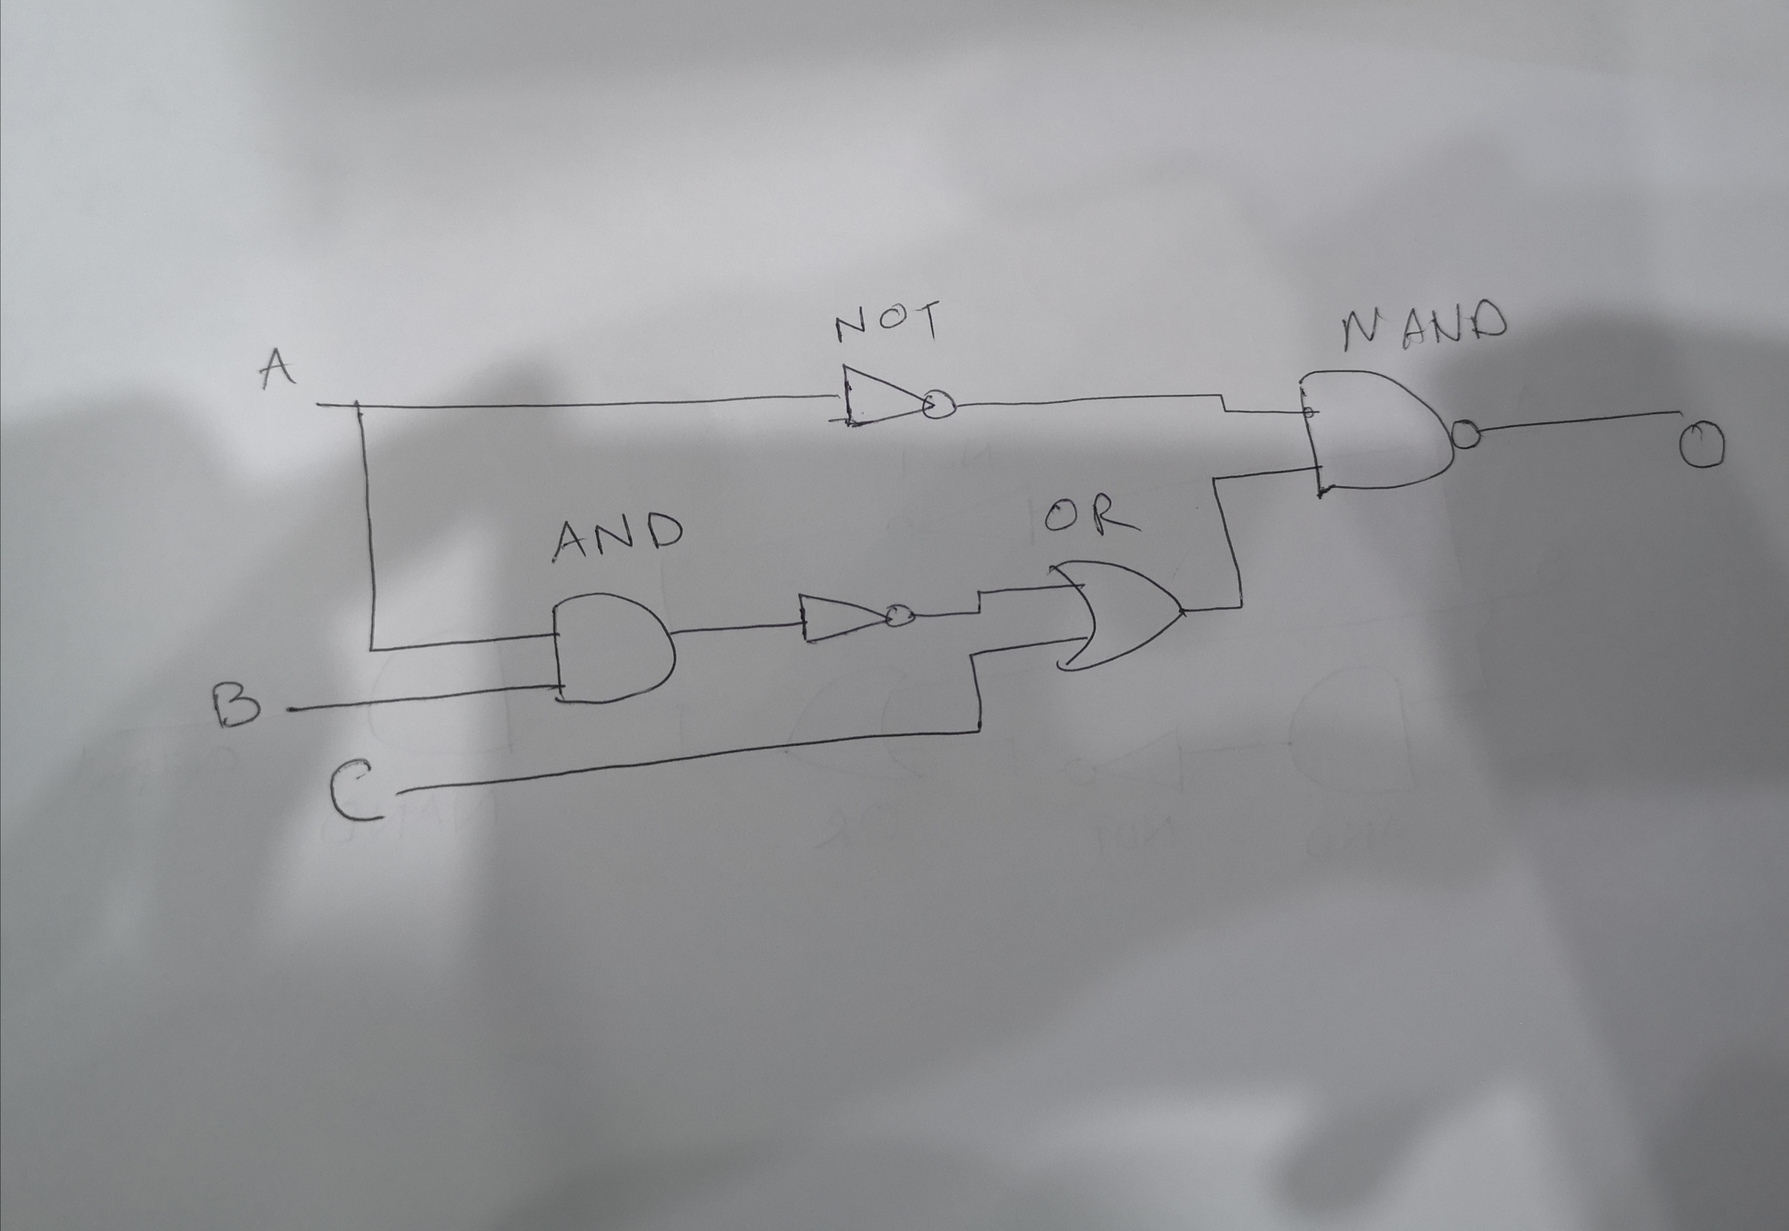and: (544, 584, 685, 713)
junction: (347, 393, 375, 417), (969, 719, 990, 742), (1203, 470, 1226, 489), (1232, 596, 1251, 614), (961, 647, 980, 663), (363, 643, 377, 658), (1218, 404, 1232, 418), (971, 605, 984, 618), (972, 586, 986, 596), (1214, 389, 1223, 399)
nand: (1293, 361, 1489, 503)
not: (820, 359, 968, 433), (793, 588, 920, 649)
or: (1043, 553, 1189, 677)
terminal: (280, 698, 305, 720), (390, 783, 413, 804), (307, 395, 328, 414), (1671, 399, 1688, 421)
text: (1338, 298, 1514, 361), (548, 510, 688, 561), (837, 298, 949, 352), (322, 754, 392, 830), (1039, 493, 1135, 539), (1672, 416, 1733, 478), (209, 677, 268, 734), (251, 344, 298, 394)
